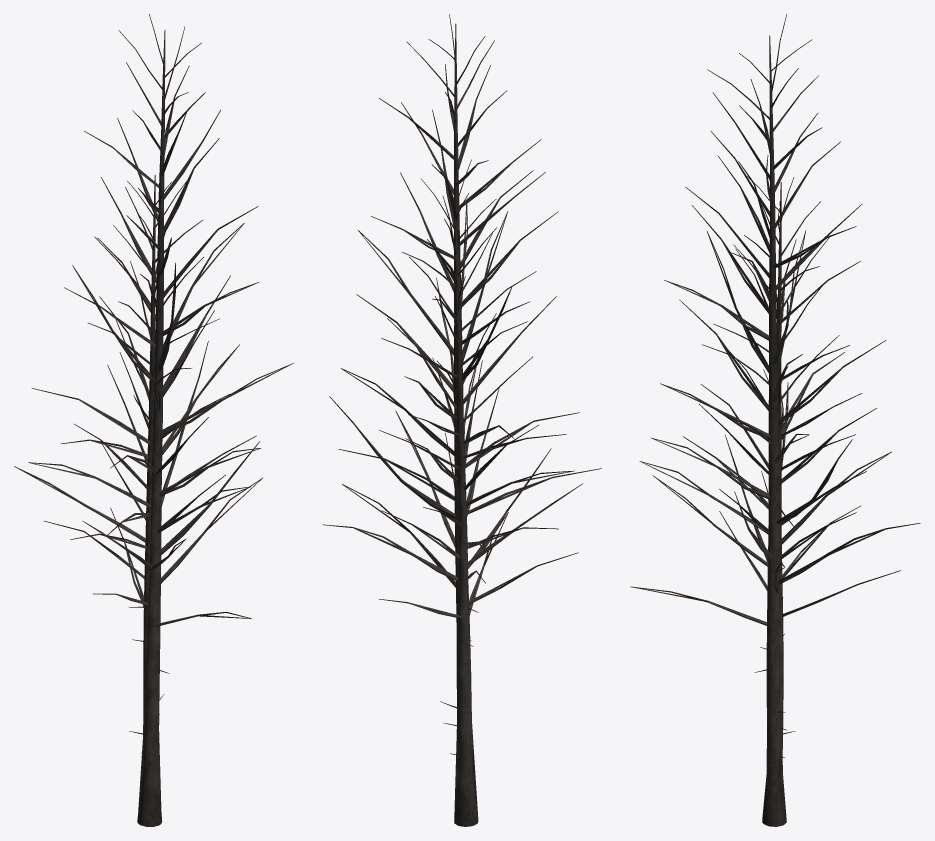
File: alder_wood.glb
3 views of the same model, side by side, from view 1: azimuth 30°, elevation 25°; view 2: azimuth 150°, elevation 25°; view 3: azimuth 270°, elevation 25° (orthographic).
Visible parts, largest first — view 1: alder_a, alder_a_l1, alder_b, alder_b_l1, alder_a_l2; view 2: alder_a, alder_b, alder_a_l1, alder_b_l1, alder_a_l2, alder_b_l2; view 3: alder_a, alder_a_l1, alder_b, alder_b_l1, alder_a_l2.
Boxes of the visible parts, x1=… form: alder_a: x1=14, y1=14, x2=293, y2=826; alder_a_l1: x1=21, y1=32, x2=291, y2=825; alder_b: x1=44, y1=175, x2=262, y2=753; alder_b_l1: x1=61, y1=193, x2=261, y2=730; alder_a_l2: x1=138, y1=46, x2=165, y2=826; alder_a: x1=324, y1=14, x2=582, y2=826; alder_b: x1=338, y1=159, x2=601, y2=761; alder_a_l1: x1=322, y1=27, x2=576, y2=826; alder_b_l1: x1=343, y1=177, x2=600, y2=764; alder_a_l2: x1=454, y1=138, x2=478, y2=826; alder_b_l2: x1=454, y1=180, x2=466, y2=764; alder_a: x1=640, y1=14, x2=920, y2=826; alder_a_l1: x1=639, y1=46, x2=890, y2=826; alder_b: x1=630, y1=176, x2=900, y2=757; alder_b_l1: x1=634, y1=190, x2=865, y2=622; alder_a_l2: x1=765, y1=35, x2=783, y2=825.
Size of the model in its own units: 4.94 by 16.06 by 5.31.
Materials: 2 (2 with a texture image).
